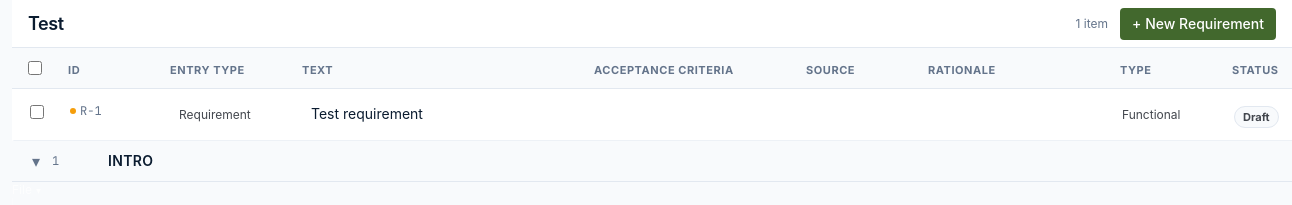
Test: RequirementsList › Move to section opens a section picker listing headings and (none)
The width and height of the screenshot is (1292, 205).
Right-click the text "R-1" at (91, 111), box [80, 103, 102, 119]
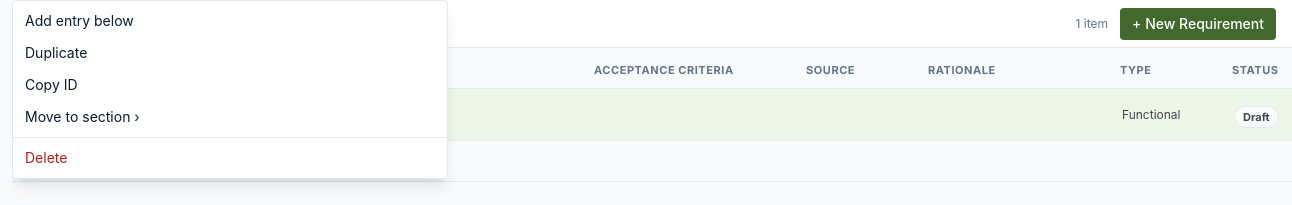
Click the menu item "Move to section ›" at (82, 116), box [13, 101, 448, 133]
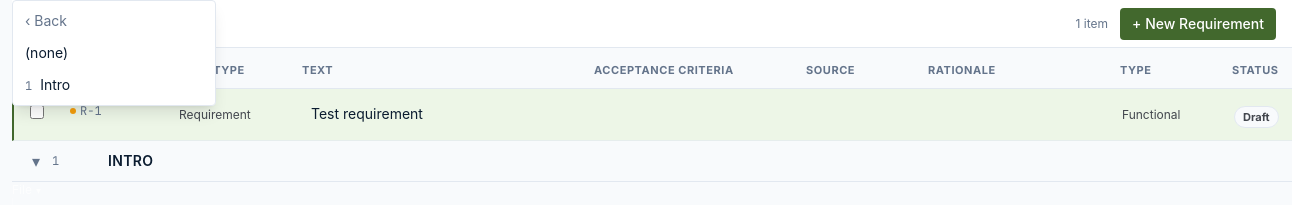
Expected: the menu item "1Intro" is shown, [13, 69, 215, 101]
Expected: the menu item "(none)" is shown, [13, 37, 215, 69]
